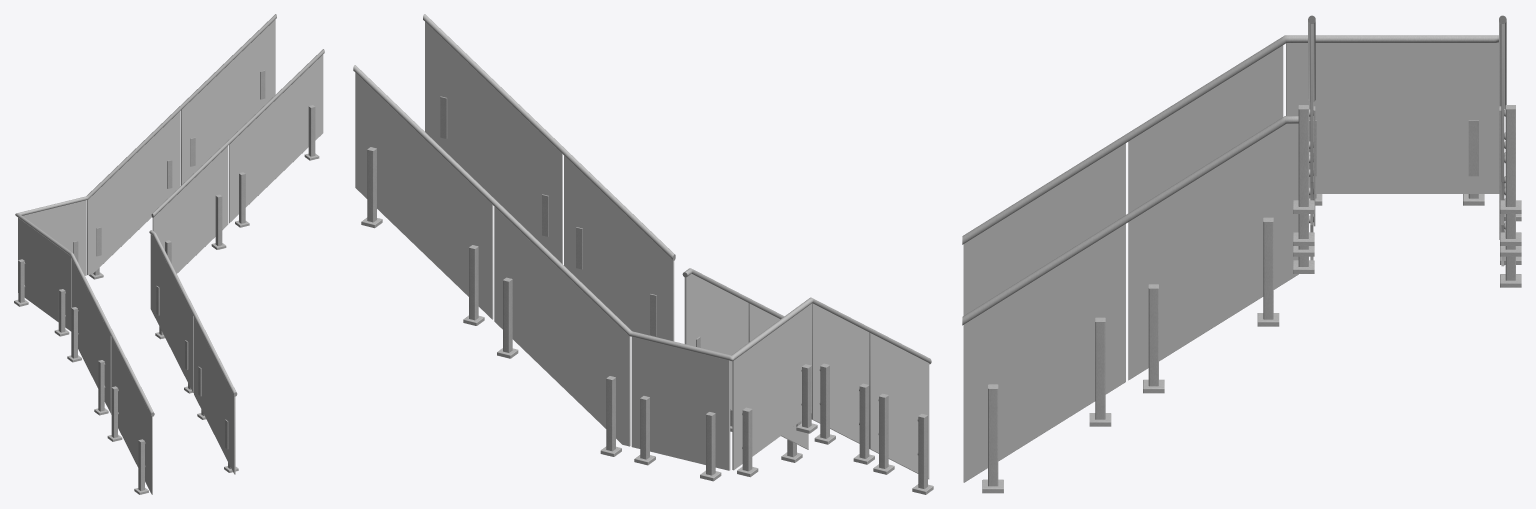
Rendered from L-Shaped_Railing_Lo-Post_Square.gltf.
The picture shows the model from 3 angles, left to right: view 1: azimuth 30°, elevation 25°; view 2: azimuth 150°, elevation 25°; view 3: azimuth 270°, elevation 25°; orthographic projection. The views are drawn at different scales.
Visible parts, largest first — view 1: Casework 1 Casework 1 [8738332], Infill_Glass_Raked & Horizontal Generic [8200579], Infill_Glass_Raked & Horizontal Generic [8736296], Infill_Glass_Raked & Horizontal Generic [8199751], Infill_Glass_Raked & Horizontal Generic [8738822], Infill_Glass_Transition Generic [8202170], Infill_Glass_Raked & Horizontal Generic [8202939], Infill_Glass_Raked & Horizontal Generic [8735940], Infill_Glass_Raked & Horizontal Generic [8739593], Infill_Glass_Raked & Horizontal Generic [8737682], Object, Generic Models 11 Generic Models 11 [8762451]005 (+3 smaller); view 2: Infill_Glass_Raked & Horizontal Generic [8736296], Casework 1 Casework 1 [8738332], Infill_Glass_Raked & Horizontal Generic [8200579], Infill_Glass_Raked & Horizontal Generic [8199751], Infill_Glass_Raked & Horizontal Generic [8737682], Infill_Glass_Raked & Horizontal Generic [8738822], LS208 & LS209 - Circum Square Post Material LS Material [922 (×9), Infill_Glass_Raked & Horizontal Generic [8735940], Infill_Glass_Raked & Horizontal Generic [8739593], Infill_Glass_Transition Generic [8202170], Object, Generic Models 11 Generic Models 11 [8762451]005 (+2 smaller); view 3: Infill_Glass_Raked & Horizontal Generic [8738822], Infill_Glass_Transition Generic [8202170], Infill_Glass_Raked & Horizontal Generic [8202939], Infill_Glass_Raked & Horizontal Generic [8735940], Infill_Glass_Raked & Horizontal Generic [8739593], LS208 & LS209 - Circum Square Post Material LS Material [922 (×6), Generic Models 1 Generic Models 1 [8568048], Generic Models 10 Generic Models 1 [8735975], Object, Infill_Glass_Raked & Horizontal Generic [8736296], Infill_Glass_Raked & Horizontal Generic [8200579], CSQ086 - Circum Lo-Post Cover Part [9223866]020.
Part boxes in pixels (x1=…): Casework 1 Casework 1 [8738332]: x1=87, y1=111, x2=180, y2=275; Infill_Glass_Raked & Horizontal Generic [8200579]: x1=229, y1=54, x2=323, y2=223; Infill_Glass_Raked & Horizontal Generic [8736296]: x1=181, y1=19, x2=275, y2=185; Infill_Glass_Raked & Horizontal Generic [8199751]: x1=152, y1=146, x2=228, y2=273; Infill_Glass_Raked & Horizontal Generic [8738822]: x1=18, y1=218, x2=71, y2=331; Infill_Glass_Transition Generic [8202170]: x1=150, y1=234, x2=193, y2=393; Infill_Glass_Raked & Horizontal Generic [8202939]: x1=194, y1=317, x2=235, y2=474; Infill_Glass_Raked & Horizontal Generic [8735940]: x1=111, y1=337, x2=152, y2=494; Infill_Glass_Raked & Horizontal Generic [8739593]: x1=72, y1=259, x2=111, y2=413; Infill_Glass_Raked & Horizontal Generic [8737682]: x1=22, y1=200, x2=86, y2=275; Object: x1=15, y1=14, x2=276, y2=254; Generic Models 11 Generic Models 11 [8762451]005: x1=151, y1=49, x2=324, y2=217; Infill_Glass_Raked & Horizontal Generic [8736296]: x1=355, y1=73, x2=493, y2=319; Casework 1 Casework 1 [8738332]: x1=494, y1=207, x2=630, y2=446; Infill_Glass_Raked & Horizontal Generic [8200579]: x1=425, y1=22, x2=562, y2=264; Infill_Glass_Raked & Horizontal Generic [8199751]: x1=564, y1=156, x2=674, y2=341; Infill_Glass_Raked & Horizontal Generic [8737682]: x1=631, y1=337, x2=730, y2=470; Infill_Glass_Raked & Horizontal Generic [8738822]: x1=732, y1=303, x2=811, y2=470; LS208 & LS209 - Circum Square Post Material LS Material [922 (×9): x1=367, y1=149, x2=927, y2=488; Infill_Glass_Raked & Horizontal Generic [8735940]: x1=869, y1=332, x2=929, y2=479; Infill_Glass_Raked & Horizontal Generic [8739593]: x1=811, y1=303, x2=869, y2=443; Infill_Glass_Transition Generic [8202170]: x1=684, y1=273, x2=748, y2=410; Object: x1=353, y1=65, x2=810, y2=361; Generic Models 11 Generic Models 11 [8762451]005: x1=423, y1=14, x2=675, y2=260; Infill_Glass_Raked & Horizontal Generic [8738822]: x1=1286, y1=43, x2=1499, y2=193; Infill_Glass_Transition Generic [8202170]: x1=1128, y1=123, x2=1298, y2=380; Infill_Glass_Raked & Horizontal Generic [8202939]: x1=963, y1=224, x2=1125, y2=482; Infill_Glass_Raked & Horizontal Generic [8735940]: x1=963, y1=143, x2=1125, y2=315; Infill_Glass_Raked & Horizontal Generic [8739593]: x1=1128, y1=45, x2=1283, y2=212; LS208 & LS209 - Circum Square Post Material LS Material [922 (×6): x1=988, y1=110, x2=1515, y2=486; Generic Models 1 Generic Models 1 [8568048]: x1=962, y1=116, x2=1298, y2=325; Generic Models 10 Generic Models 1 [8735975]: x1=962, y1=35, x2=1293, y2=244; Object: x1=1293, y1=15, x2=1506, y2=108; Infill_Glass_Raked & Horizontal Generic [8736296]: x1=1501, y1=24, x2=1504, y2=225; Infill_Glass_Raked & Horizontal Generic [8200579]: x1=1310, y1=24, x2=1313, y2=225; CSQ086 - Circum Lo-Post Cover Part [9223866]020: x1=1468, y1=120, x2=1478, y2=176.
Bounding box in the file's own units: 3.06 × 3.51 × 2.78.
